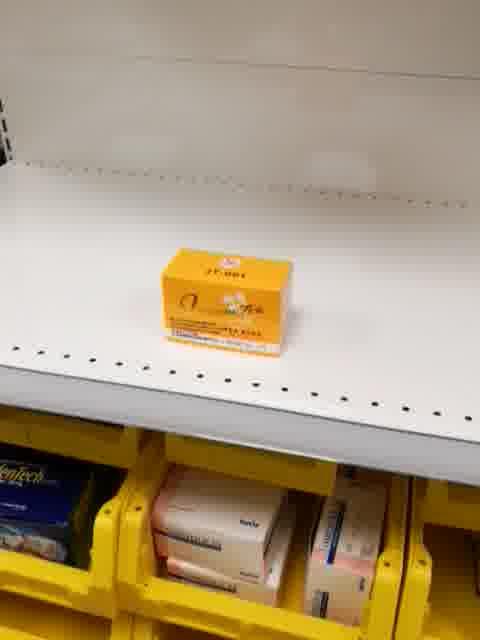jasminetea: (158, 243, 296, 359)
